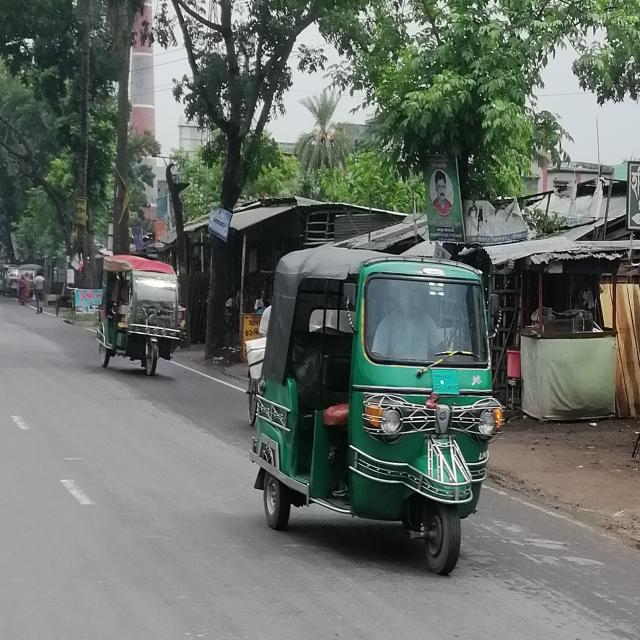CNG: (226, 227, 522, 591)
Easybike: (80, 242, 198, 392)
